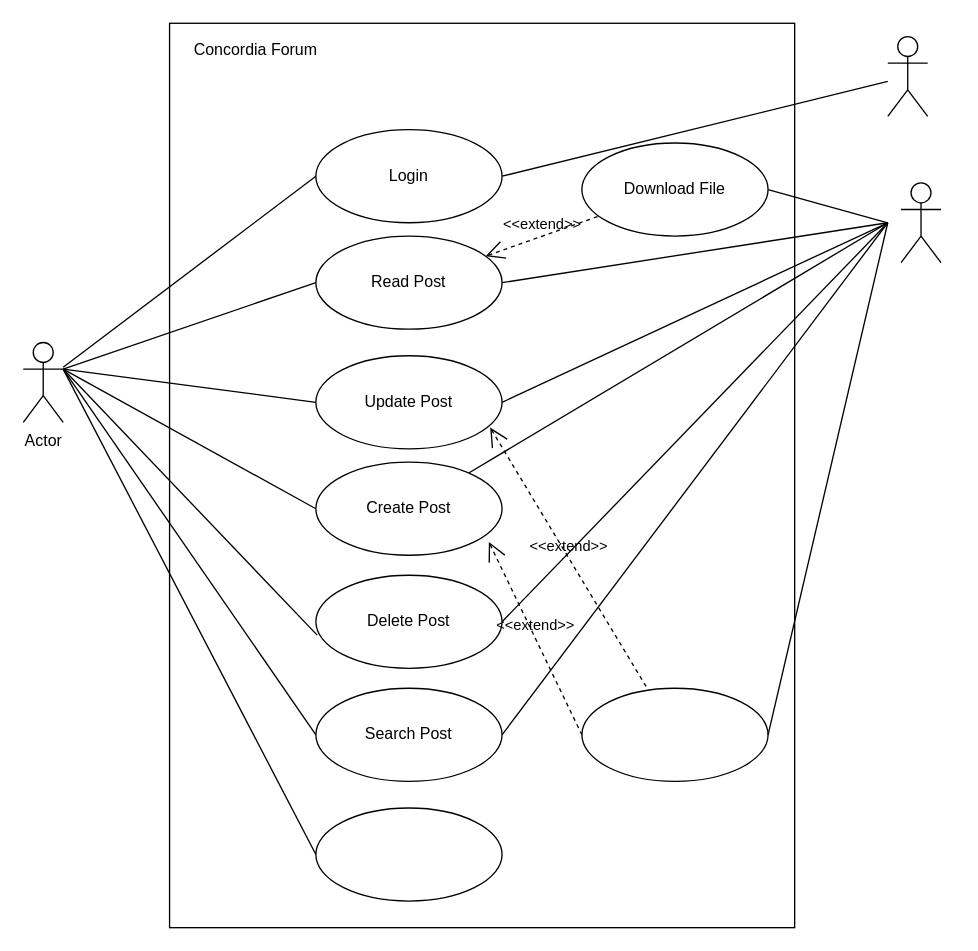
Some shapes in this 978 by 951 pixel diagram are drawn without their labels. The shapes that lost their labels are listed below. From the top down, each one's centre as x and y in pixels, then its label:
At (907,75): "Config File".
At (920,222): "Database".
At (674,734): "Upload File".
At (408,854): "Logout".
